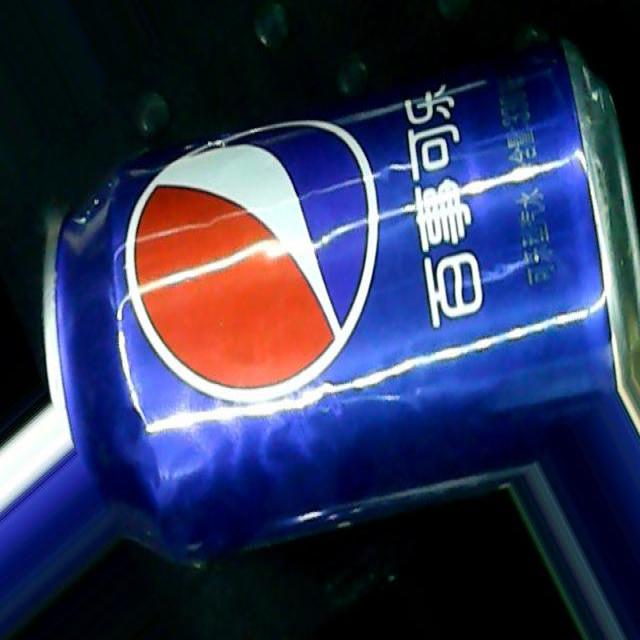-Recyclables - can-: (41, 31, 618, 554)
